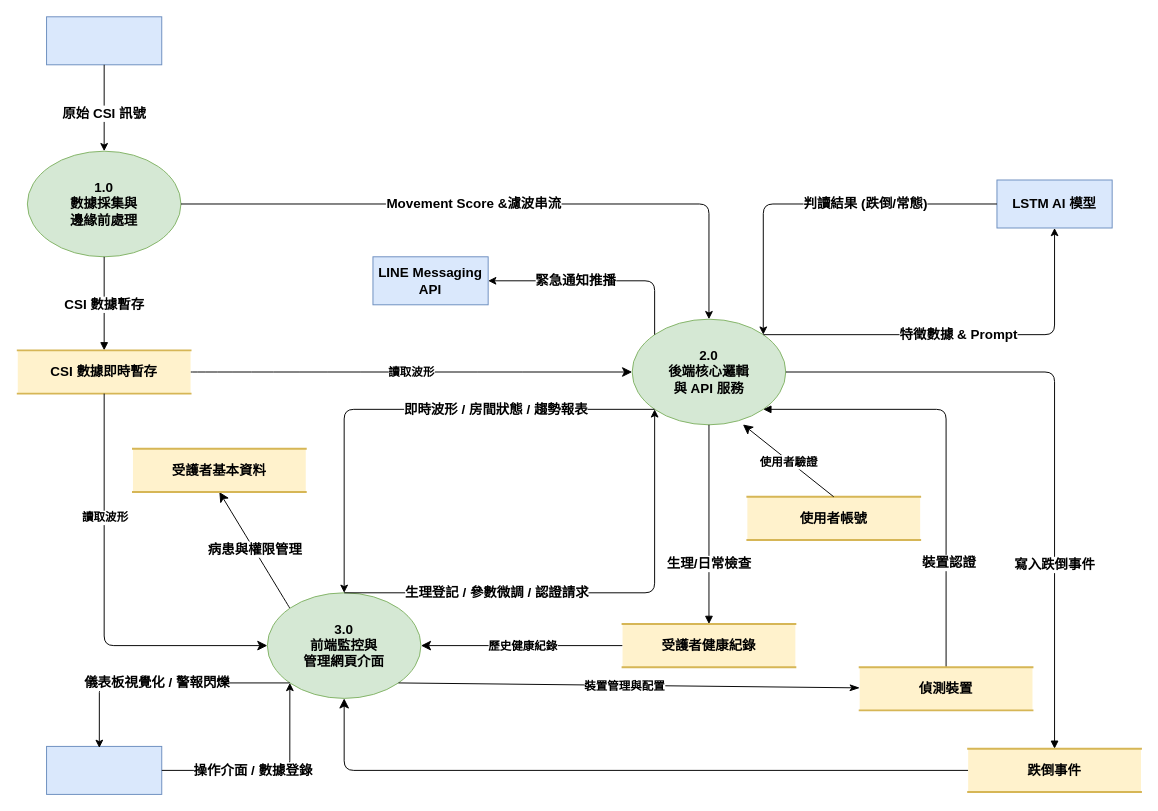
This 1158x811 diagram has some shape labels left out. The box of each missing label's shape, as (x1, y1, x2, y2) in pixels:
ESP32 感測晶片: (46, 16, 162, 65)
系統使用者 (管理者/醫護/家屬): (46, 745, 162, 794)
